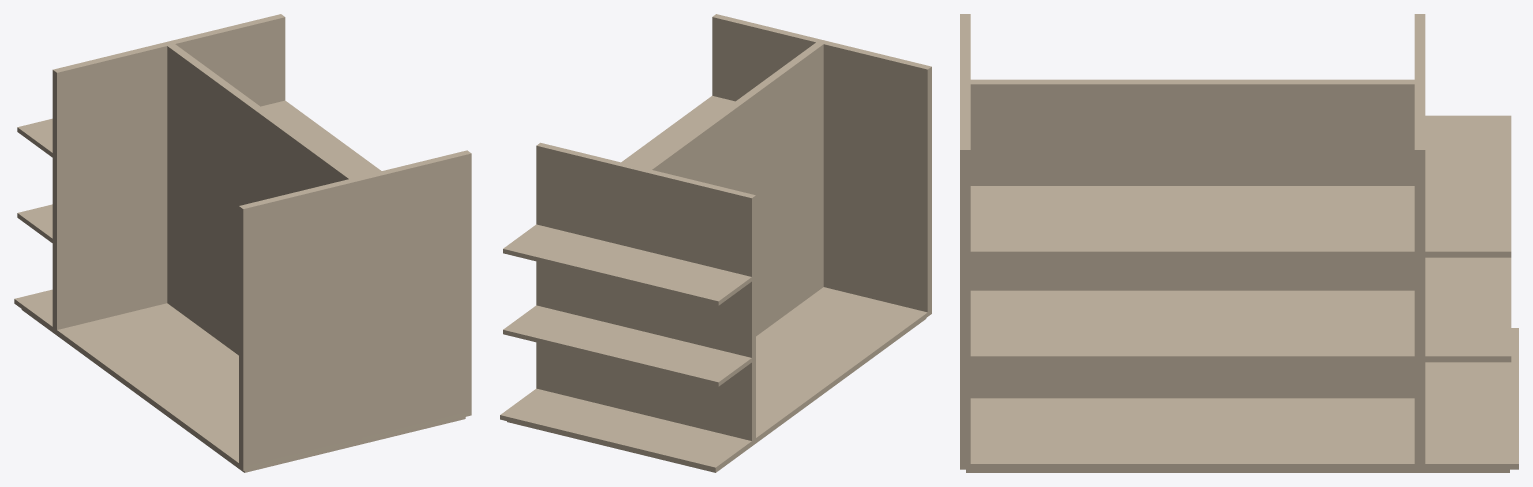
File: Shelf01.fbx
3 views of the same model, side by side, from view 1: azimuth 30°, elevation 25°; view 2: azimuth 150°, elevation 25°; view 3: azimuth 270°, elevation 25° (orthographic). The views are drawn at different scales.
Parts seen in each view (by area): view 1: Regal4_dreiseitig; view 2: Regal4_dreiseitig; view 3: Regal4_dreiseitig.
Part boxes in pixels (x1,y1,x2,y2): Regal4_dreiseitig: (14,14,471,472); Regal4_dreiseitig: (500,14,931,472); Regal4_dreiseitig: (960,14,1518,472).
Bounding box in the file's own units: 537 × 599 × 932.
